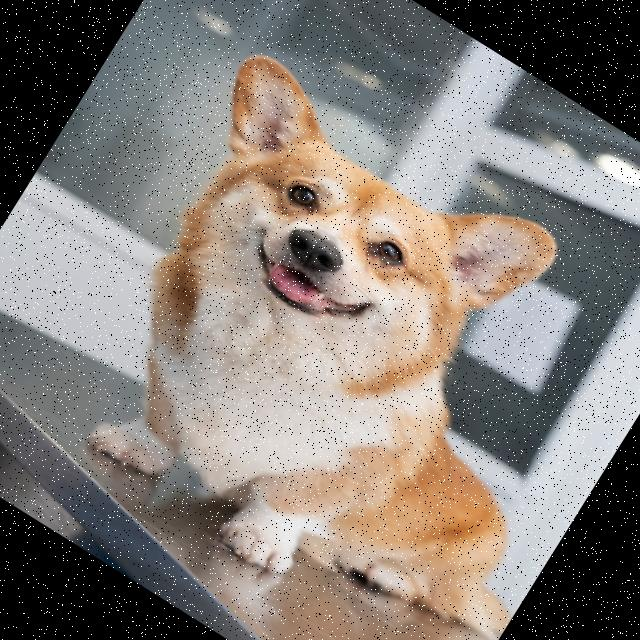Dog: (17, 44, 640, 640)
